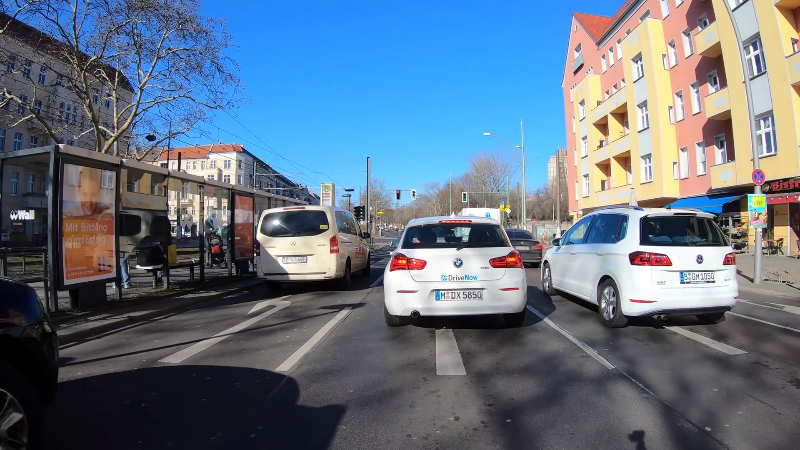Plate: (434, 288, 484, 300), (679, 270, 715, 282), (281, 254, 308, 264)
